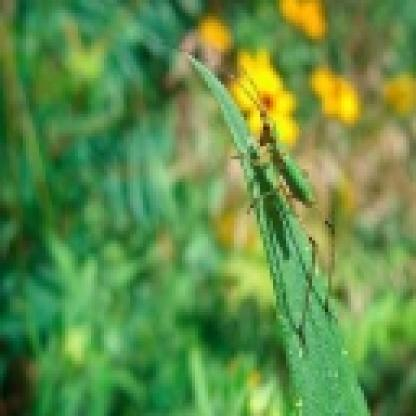grasshopper: (232, 80, 326, 218)
